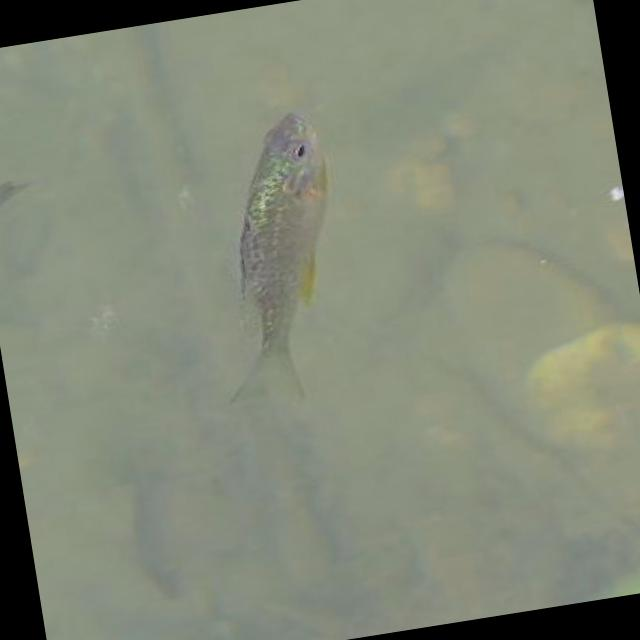Gunes Levregi: (183, 110, 367, 418)
